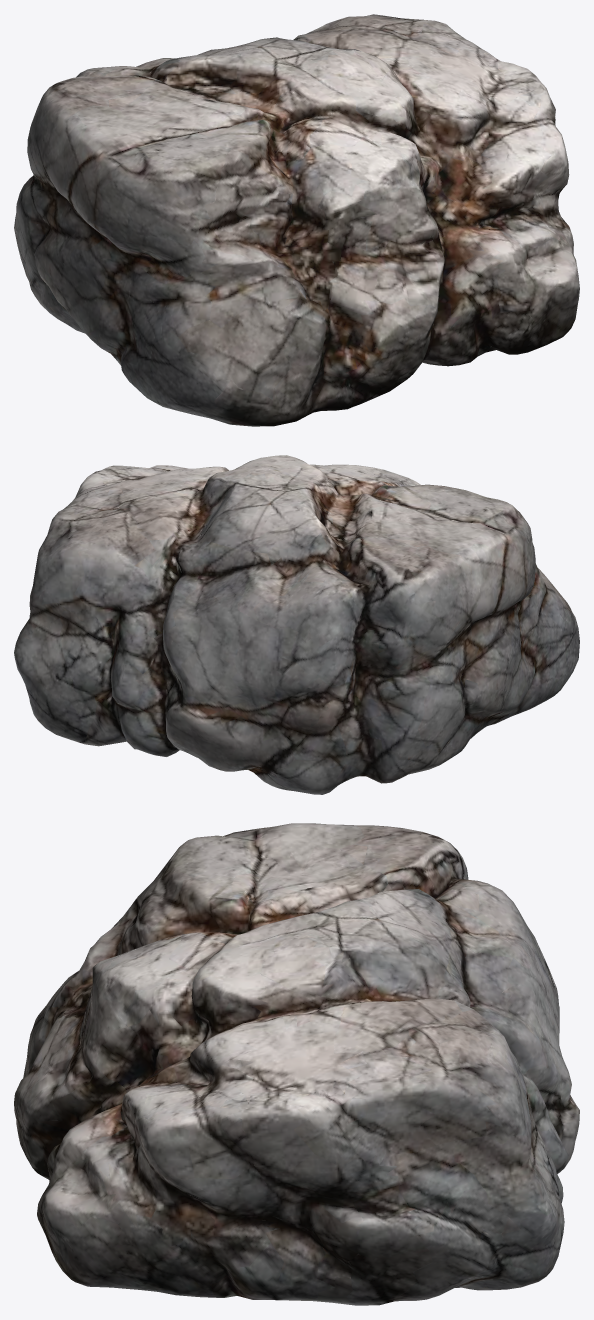
3 views of the same model, one above another, from view 1: azimuth 30°, elevation 25°; view 2: azimuth 150°, elevation 25°; view 3: azimuth 270°, elevation 25° (orthographic). The views are drawn at different scales.
Bounding box in the file's own units: 1.91 × 0.9662 × 1.75.
Materials: 1 (1 with a texture image).
